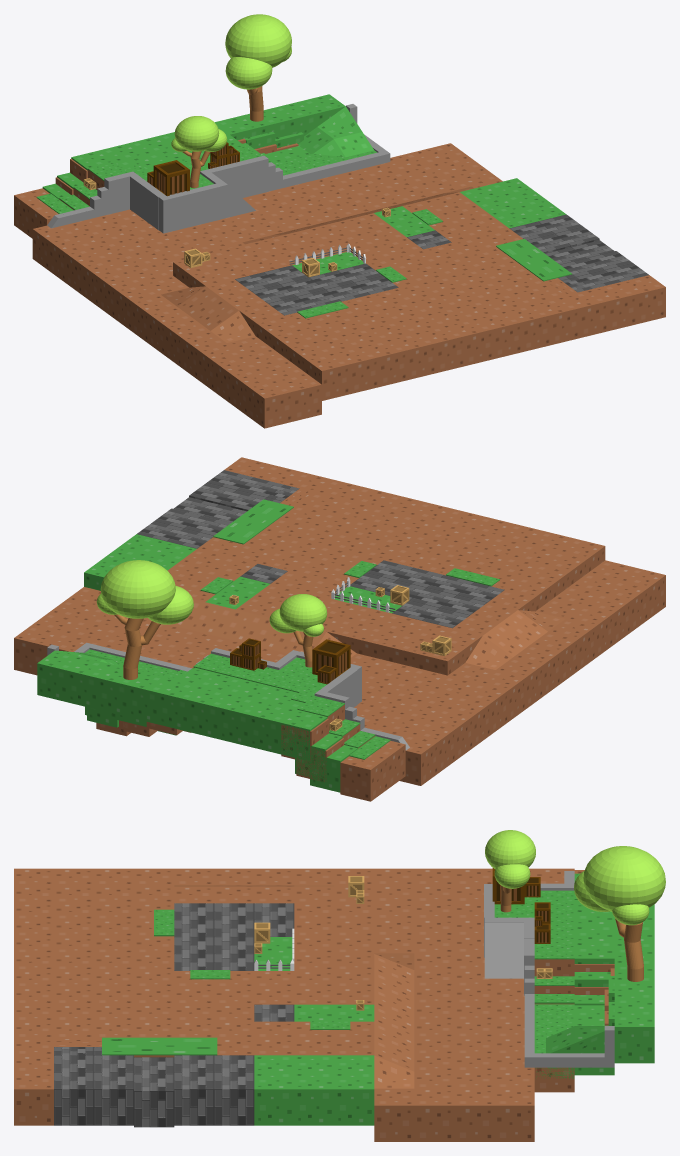
File: SigmaCityTest8.glb
3 views of the same model, one above another, from view 1: azimuth 30°, elevation 25°; view 2: azimuth 150°, elevation 25°; view 3: azimuth 270°, elevation 25° (orthographic). The views are drawn at different scales.
Parts seen in each view (by area): view 1: Tree.001, Tree.002, Dirt.137, Dirt.124, GrassPath.003, Dirt.125, Dirt.128, Dirt.130, Dirt.132, Dirt.133, Dirt.122, Dirt.123 (+42 smaller); view 2: Tree.001, Tree.002, Dirt.164, GrassPath.003, Grass.020, Grass.024, Grass.019, Grass.029, Grass.023, Grass.031, Grass.032, Grass.028 (+133 smaller); view 3: Tree.001, Tree.002, StoneSlope, Floor.012, Floor.014, Grass.007, Grass.008, Grass.009, Dirt.094, Floor.016, Dirt.081, Dirt.082 (+166 smaller).
Part boxes in pixels (x1,y1,x2,y2): Tree.001: [225, 14, 291, 121]; Tree.002: [171, 116, 227, 188]; Dirt.137: [248, 379, 293, 428]; Dirt.124: [305, 352, 350, 400]; GrassPath.003: [496, 239, 572, 281]; Dirt.125: [334, 345, 379, 393]; Dirt.128: [420, 324, 465, 372]; Dirt.130: [506, 303, 551, 351]; Dirt.132: [592, 282, 637, 330]; Dirt.133: [621, 275, 665, 323]; Dirt.122: [535, 296, 579, 344]; Dirt.123: [449, 317, 493, 365]; Tree.001: [96, 560, 193, 679]; Tree.002: [269, 594, 327, 667]; Dirt.164: [340, 753, 388, 801]; GrassPath.003: [213, 499, 293, 544]; Grass.020: [279, 709, 327, 761]; Grass.024: [128, 673, 175, 724]; Grass.019: [249, 702, 296, 753]; Grass.029: [37, 650, 84, 702]; Grass.023: [158, 680, 205, 731]; Grass.031: [219, 695, 266, 746]; Grass.032: [189, 687, 236, 739]; Grass.028: [67, 658, 114, 709]; Tree.001: [574, 846, 665, 981]; Tree.002: [485, 830, 535, 912]; StoneSlope: [484, 922, 523, 978]; Floor.012: [214, 1072, 254, 1125]; Floor.014: [174, 1072, 214, 1125]; Grass.007: [294, 1072, 334, 1125]; Grass.008: [334, 1072, 374, 1125]; Grass.009: [254, 1072, 294, 1125]; Dirt.094: [454, 1088, 494, 1141]; Floor.016: [134, 1074, 174, 1127]; Dirt.081: [414, 1088, 454, 1141]; Dirt.082: [374, 1088, 414, 1141].
Size of the model in its own units: 28 by 11 by 32.56.
Materials: 13 (3 with a texture image).
